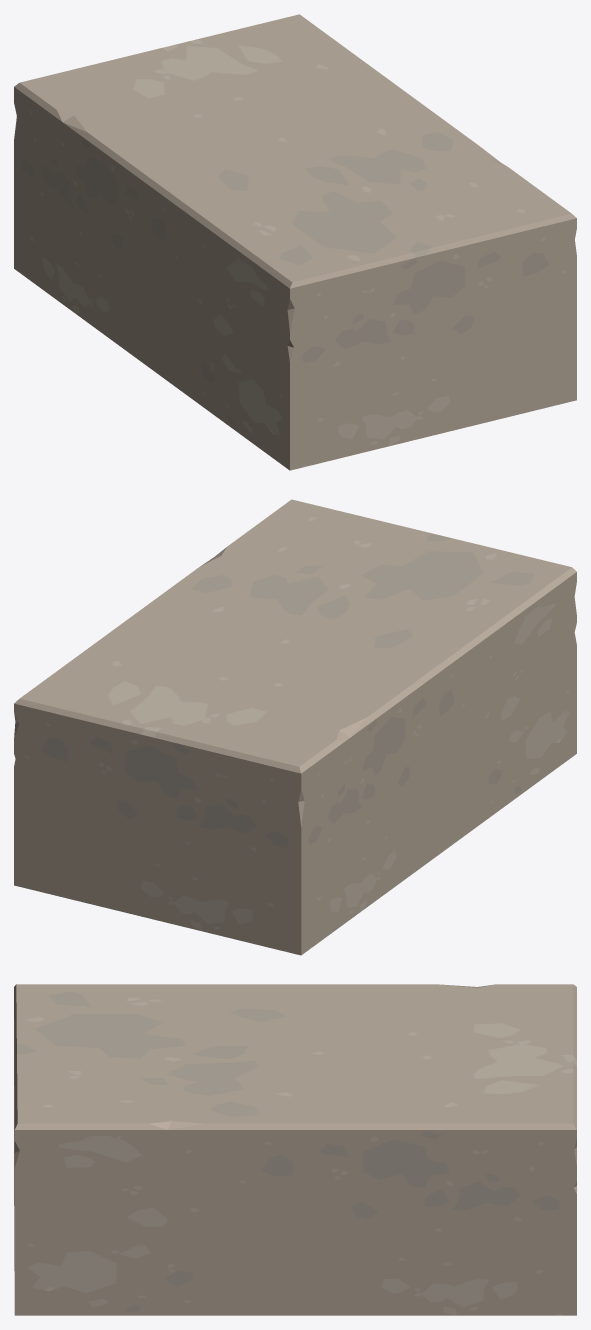
Rendered from SM_Bld_Village_House_Plinth_02.gltf.
3 views of the same model, one above another, from view 1: azimuth 30°, elevation 25°; view 2: azimuth 150°, elevation 25°; view 3: azimuth 270°, elevation 25° (orthographic). The views are drawn at different scales.
Visible parts, largest first — view 1: SM_Bld_Village_House_Plinth_02; view 2: SM_Bld_Village_House_Plinth_02; view 3: SM_Bld_Village_House_Plinth_02.
Boxes of the visible parts, x1,y1,x2,y2 form: SM_Bld_Village_House_Plinth_02: (14,14,576,470); SM_Bld_Village_House_Plinth_02: (14,499,576,955); SM_Bld_Village_House_Plinth_02: (14,984,576,1315).
Bounding box in the file's own units: 7.61 × 4.72 × 12.65.
Materials: 1 (1 with a texture image).
